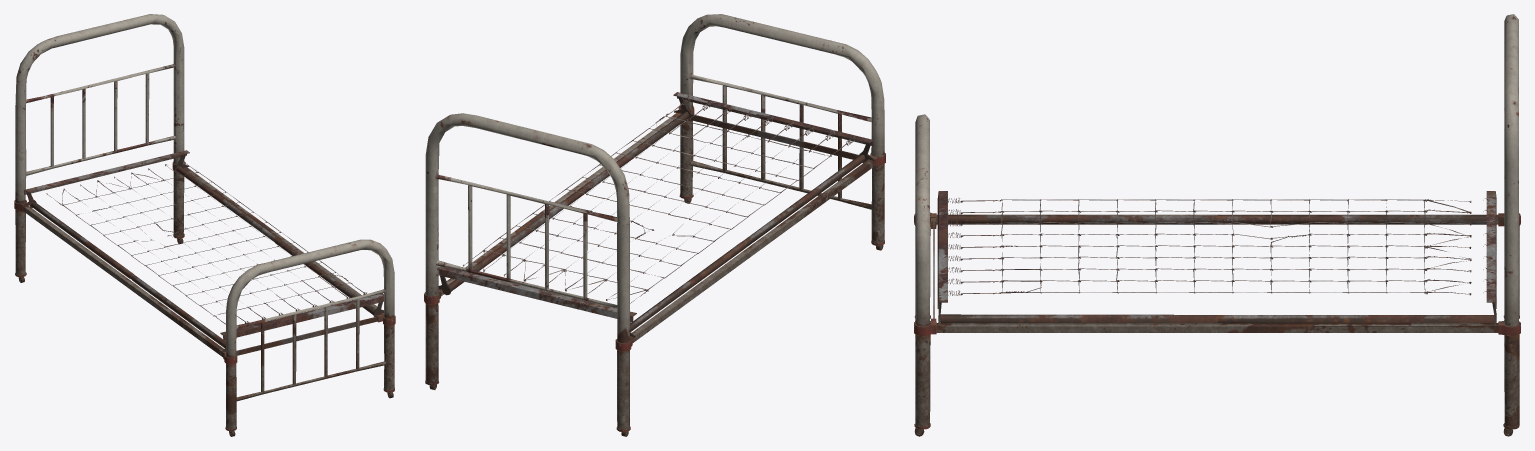
Rendered from old_bed_frame.glb.
3 views of the same model, side by side, from view 1: azimuth 30°, elevation 25°; view 2: azimuth 150°, elevation 25°; view 3: azimuth 270°, elevation 25° (orthographic). The views are drawn at different scales.
Parts seen in each view (by area): view 1: old_bed_frame; view 2: old_bed_frame; view 3: old_bed_frame.
Boxes of the visible parts, x1=… form: old_bed_frame: x1=14, y1=14, x2=395, y2=436; old_bed_frame: x1=424, y1=14, x2=885, y2=436; old_bed_frame: x1=914, y1=14, x2=1520, y2=436.
Size of the model in its own units: 0.9047 by 1.2 by 2.
1 material, 1 textured.
